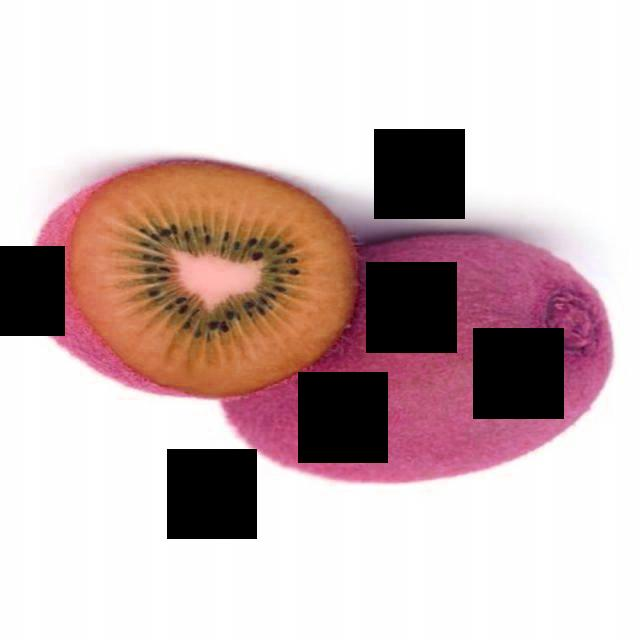kiwi: (213, 228, 618, 485)
